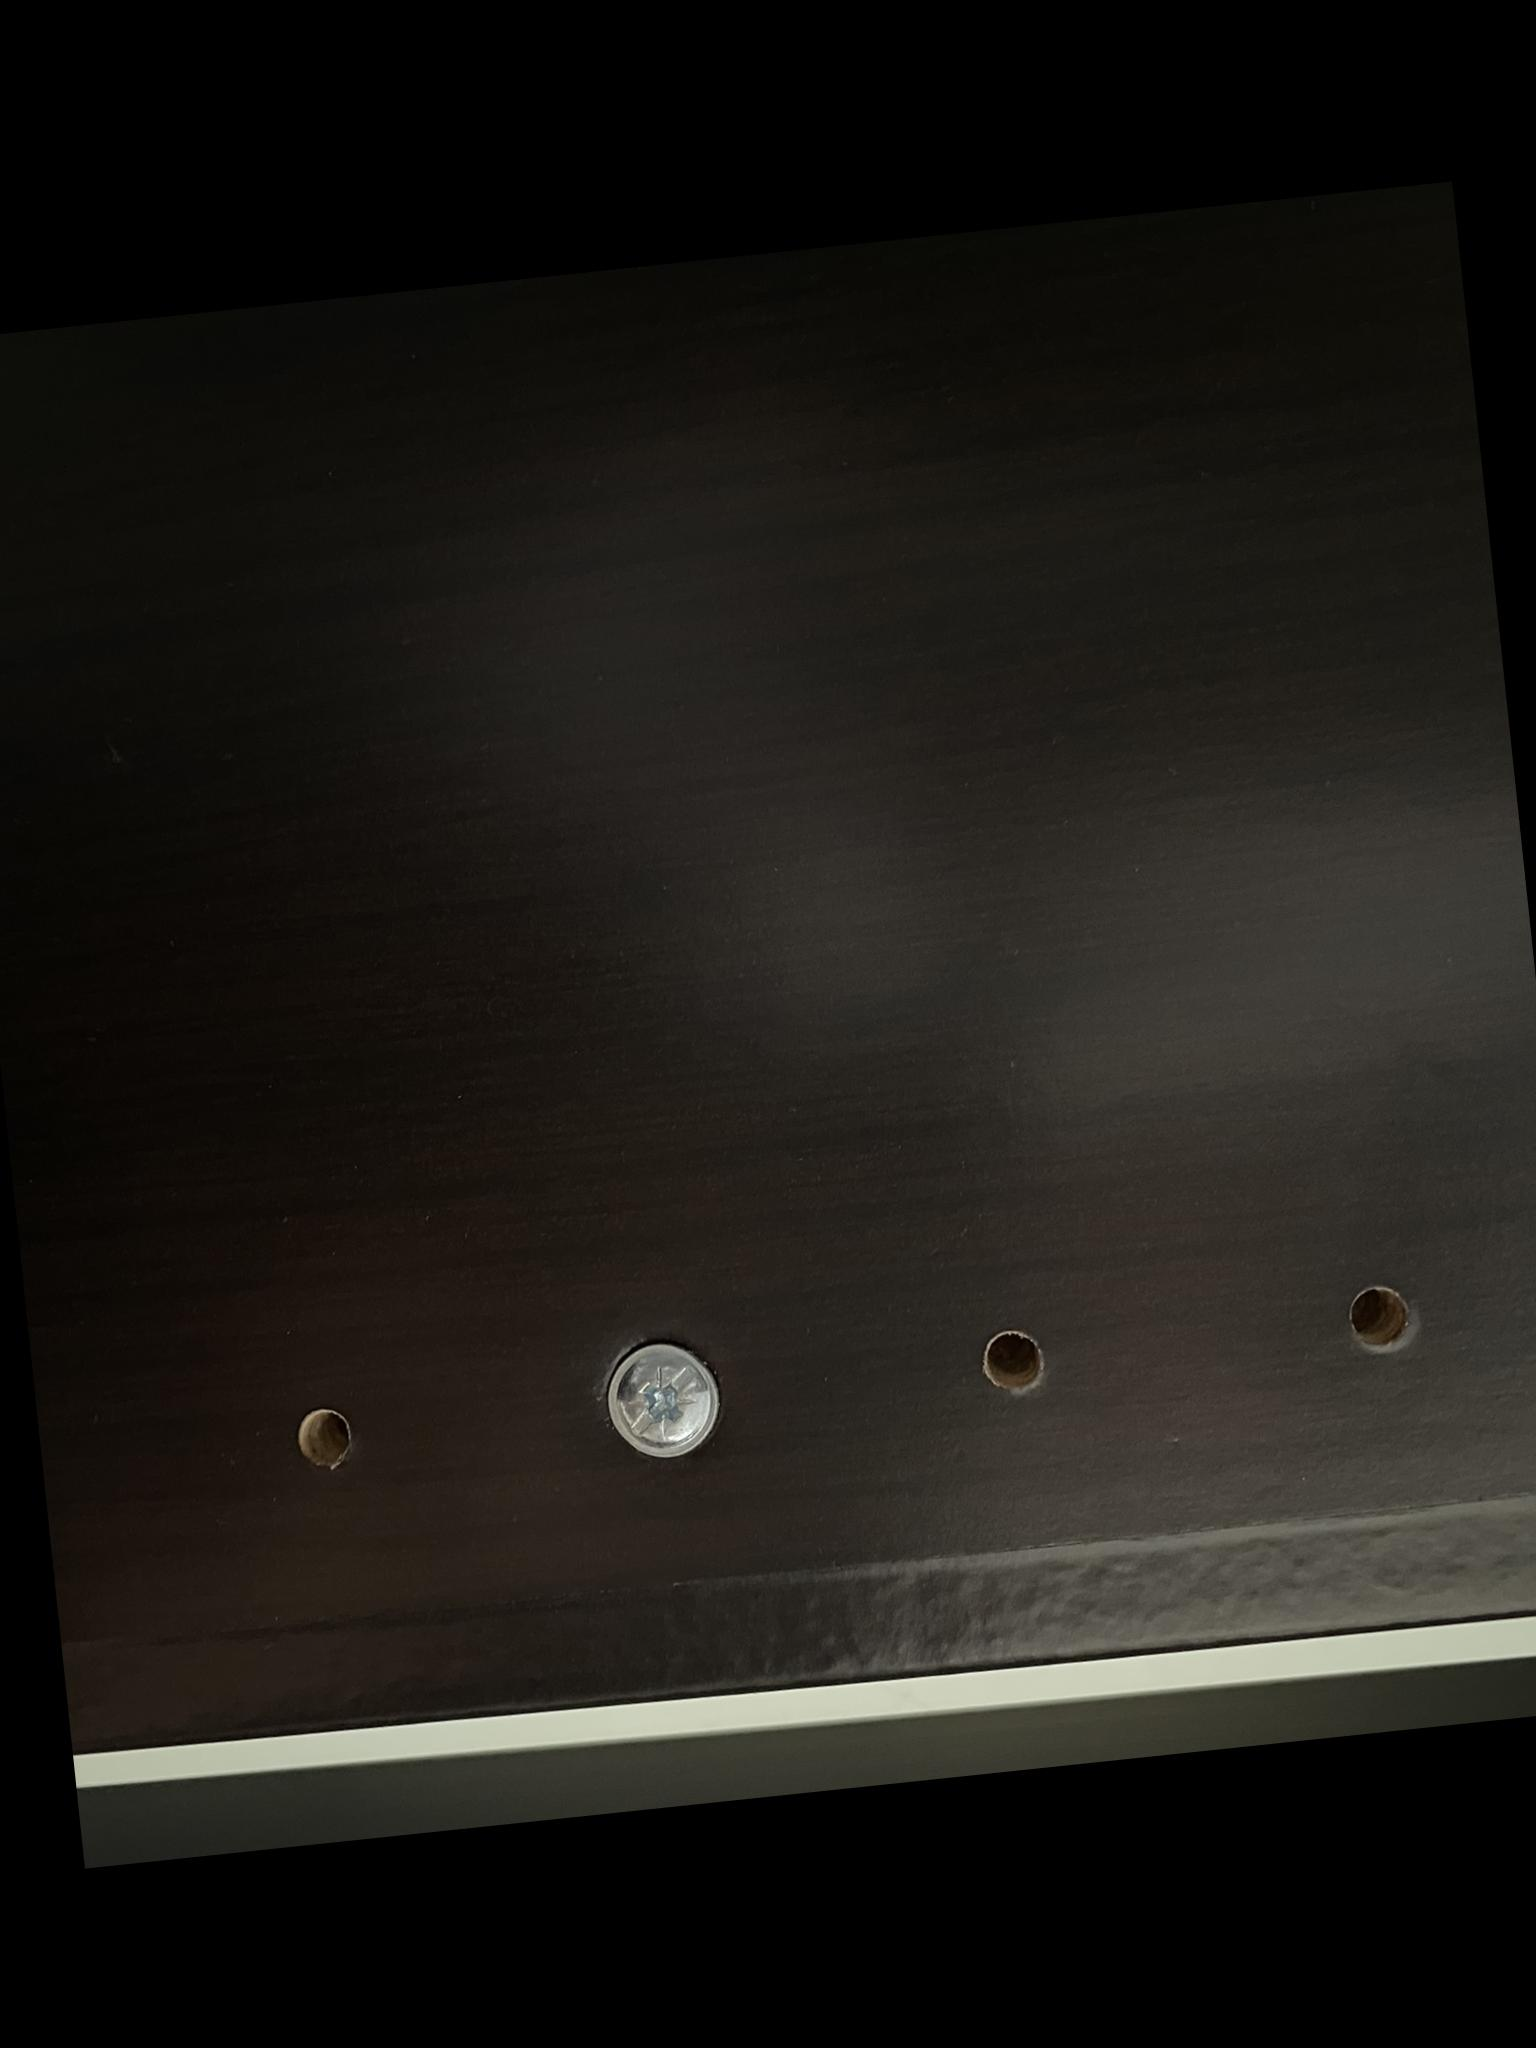PH: (597, 1334, 726, 1464)
